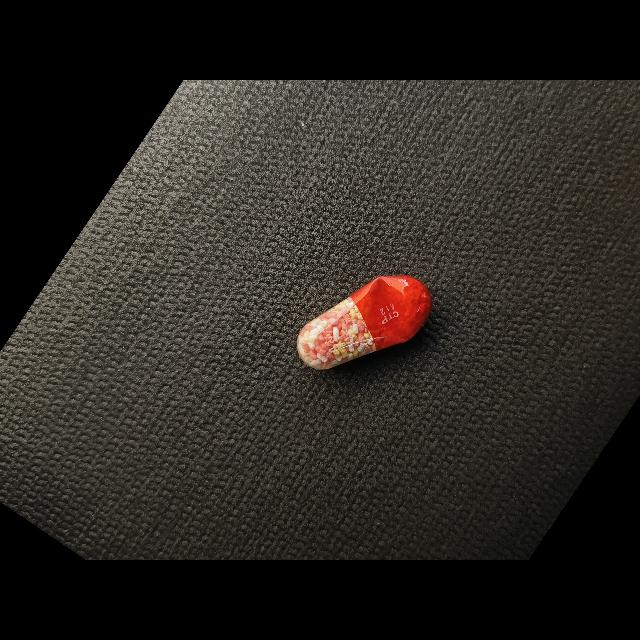Defective Capsule: (297, 275, 432, 370)
